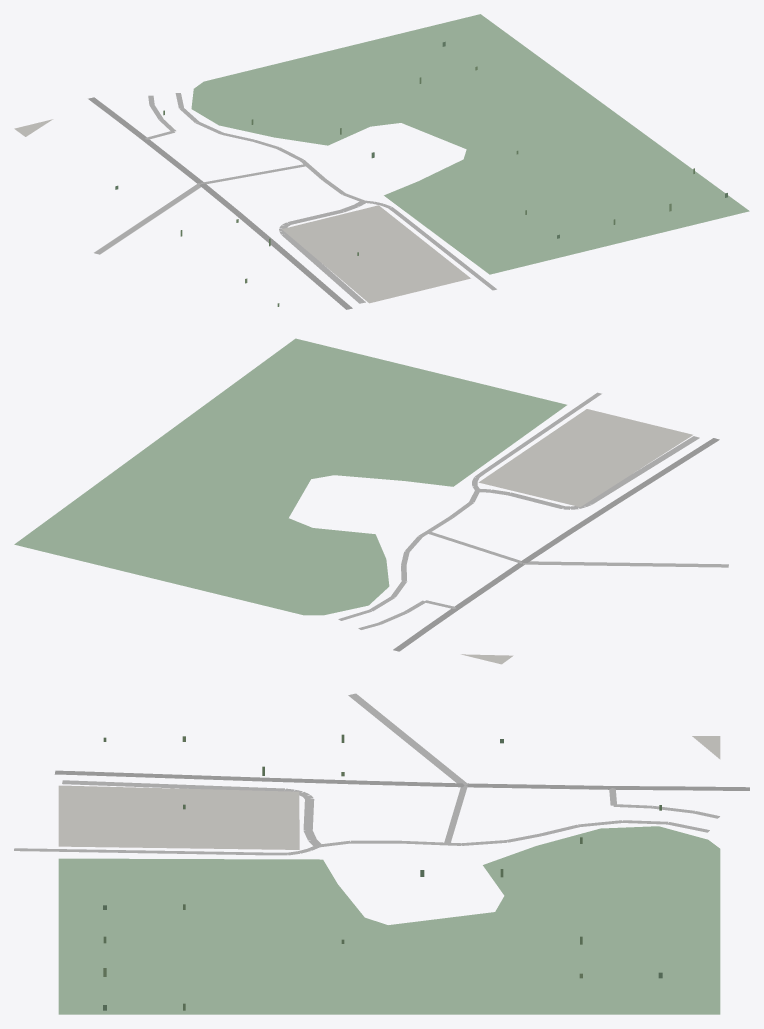
The picture shows the model from 3 angles, top to bottom: view 1: azimuth 30°, elevation 25°; view 2: azimuth 150°, elevation 25°; view 3: azimuth 270°, elevation 25°; orthographic projection. The views are drawn at different scales.
Size of the model in its own units: 574 by 9.45 by 556.
